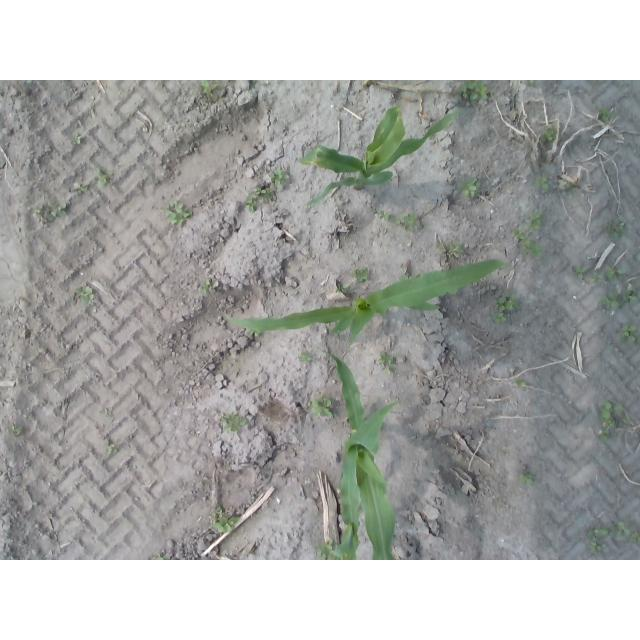Maize: (222, 260, 502, 345), (297, 109, 452, 212), (323, 350, 397, 560)
Weeds: (456, 81, 489, 108), (513, 230, 539, 257), (168, 202, 190, 227), (310, 397, 334, 419), (221, 414, 247, 430), (601, 403, 623, 421), (45, 204, 67, 221), (602, 292, 621, 309), (461, 178, 479, 195), (402, 215, 422, 230), (609, 221, 626, 238), (76, 285, 92, 303), (588, 526, 608, 540), (442, 242, 462, 256), (214, 518, 235, 531), (620, 325, 637, 339), (540, 127, 555, 142), (271, 170, 283, 187), (530, 210, 542, 227), (615, 523, 628, 538), (626, 289, 639, 304), (499, 297, 514, 310), (203, 80, 219, 92), (96, 168, 109, 182), (381, 352, 396, 364), (355, 269, 370, 280), (573, 268, 588, 279), (74, 183, 90, 193), (537, 175, 548, 189), (104, 439, 114, 453), (606, 266, 623, 274), (591, 271, 604, 281), (9, 425, 21, 435), (299, 353, 311, 363), (519, 474, 534, 482), (601, 111, 612, 121), (248, 198, 257, 210), (201, 281, 211, 291), (74, 133, 83, 144), (254, 188, 267, 195), (37, 205, 47, 214), (380, 210, 389, 220), (323, 540, 334, 548), (589, 543, 599, 551), (601, 431, 612, 438), (632, 533, 640, 542), (498, 314, 506, 322), (216, 507, 224, 514), (516, 381, 524, 387)
